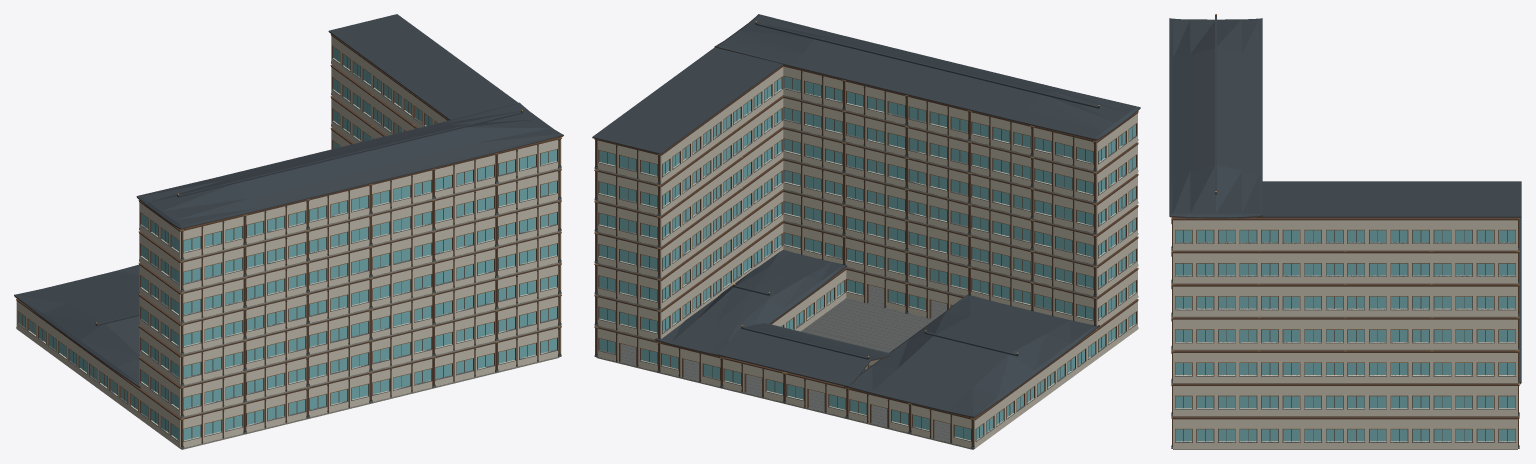
3 renders of one model, left to right at view 1: azimuth 30°, elevation 25°; view 2: azimuth 150°, elevation 25°; view 3: azimuth 270°, elevation 25°, orthographic. The views are drawn at different scales.
Parts seen in each view (by area): view 1: 参数墙 · 独立窗玻璃 (×58), 连续屋面 · hip (×2), 连续屋面 · flat; view 2: 参数墙 · 独立窗玻璃 (×66), 连续屋面 · hip (×3), 参数墙 · 通行门洞 (×8), 连续屋面 · flat, 连续屋面 · gable, 石铺面与混凝土楼板 (×2); view 3: 参数墙 · 独立窗玻璃 (×28), 连续屋面 · hip, 连续屋面 · flat.
Boxes of the visible parts, bbox=[...] form: 参数墙 · 独立窗玻璃 (×58): bbox=[16, 34, 559, 448]; 连续屋面 · hip (×2): bbox=[14, 102, 563, 388]; 连续屋面 · flat: bbox=[328, 14, 518, 120]; 参数墙 · 独立窗玻璃 (×66): bbox=[597, 65, 1138, 448]; 连续屋面 · hip (×3): bbox=[655, 14, 1140, 418]; 参数墙 · 通行门洞 (×8): bbox=[597, 268, 971, 447]; 连续屋面 · flat: bbox=[592, 47, 782, 154]; 连续屋面 · gable: bbox=[718, 323, 890, 387]; 石铺面与混凝土楼板 (×2): bbox=[806, 298, 933, 349]; 参数墙 · 独立窗玻璃 (×28): bbox=[1173, 217, 1517, 449]; 连续屋面 · hip: bbox=[1169, 14, 1262, 218]; 连续屋面 · flat: bbox=[1255, 181, 1521, 217].
Size of the model in its own units: 53.6 by 31.68 by 40.4.
Materials: 18 (18 with a texture image).
